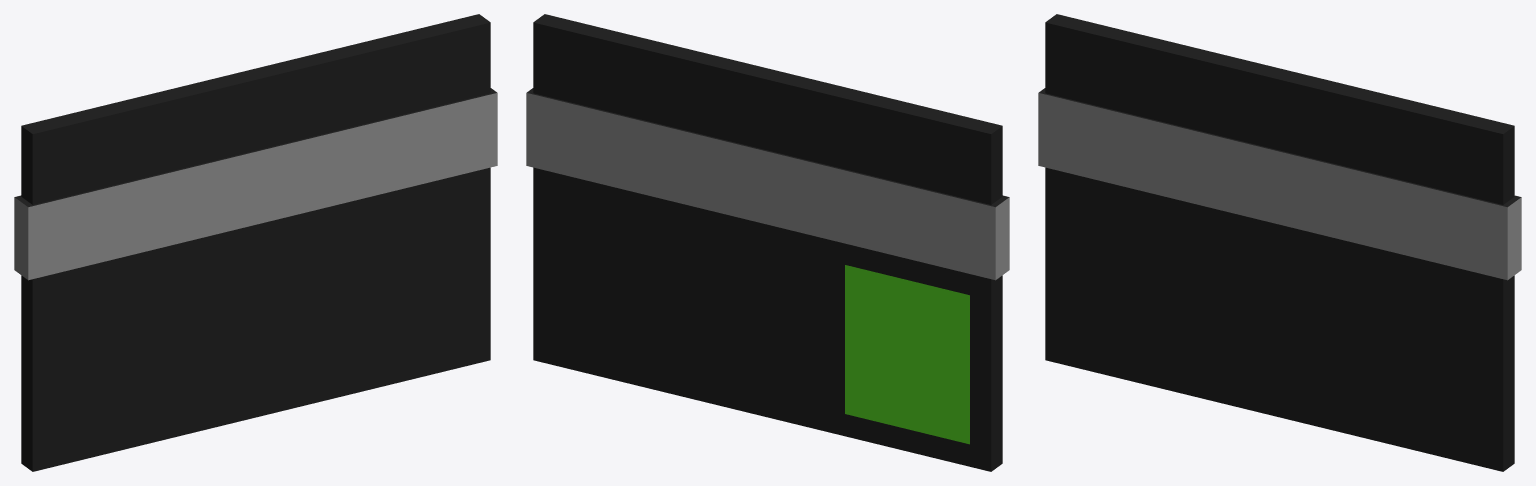
The model's file is Tarjeta.fbx.
3 renders of one model, left to right at view 1: azimuth 30°, elevation 25°; view 2: azimuth 150°, elevation 25°; view 3: azimuth 330°, elevation 25°, orthographic.
Visible parts, largest first — view 1: Box020; view 2: Box020; view 3: Box020.
Part boxes in pixels (x1=…): Box020: x1=14, y1=14, x2=497, y2=471; Box020: x1=526, y1=14, x2=1009, y2=471; Box020: x1=1038, y1=14, x2=1521, y2=471.
Size of the model in its own units: 8.37 by 5.76 by 0.4281.
